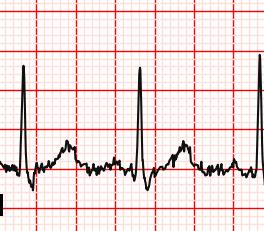Pathological Q Wave: (119, 156, 139, 184)
ST Depression: (117, 161, 164, 193), (6, 159, 46, 193)
